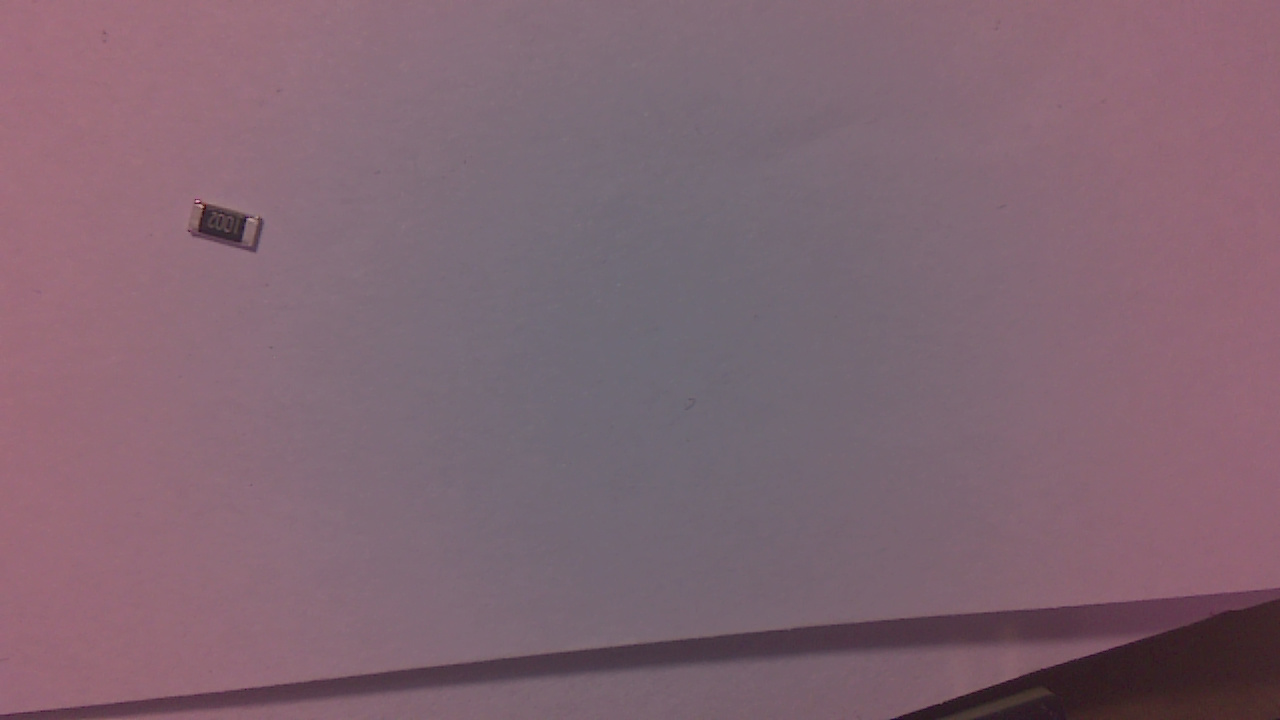Resistor: (192, 201, 267, 259)
